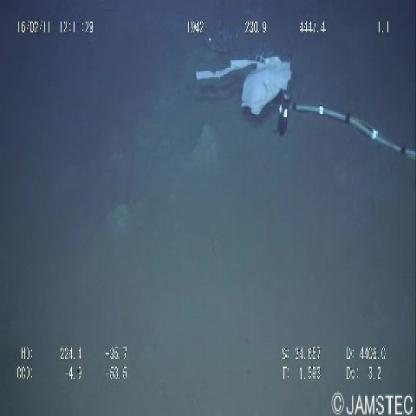Rác: (193, 52, 294, 122)
